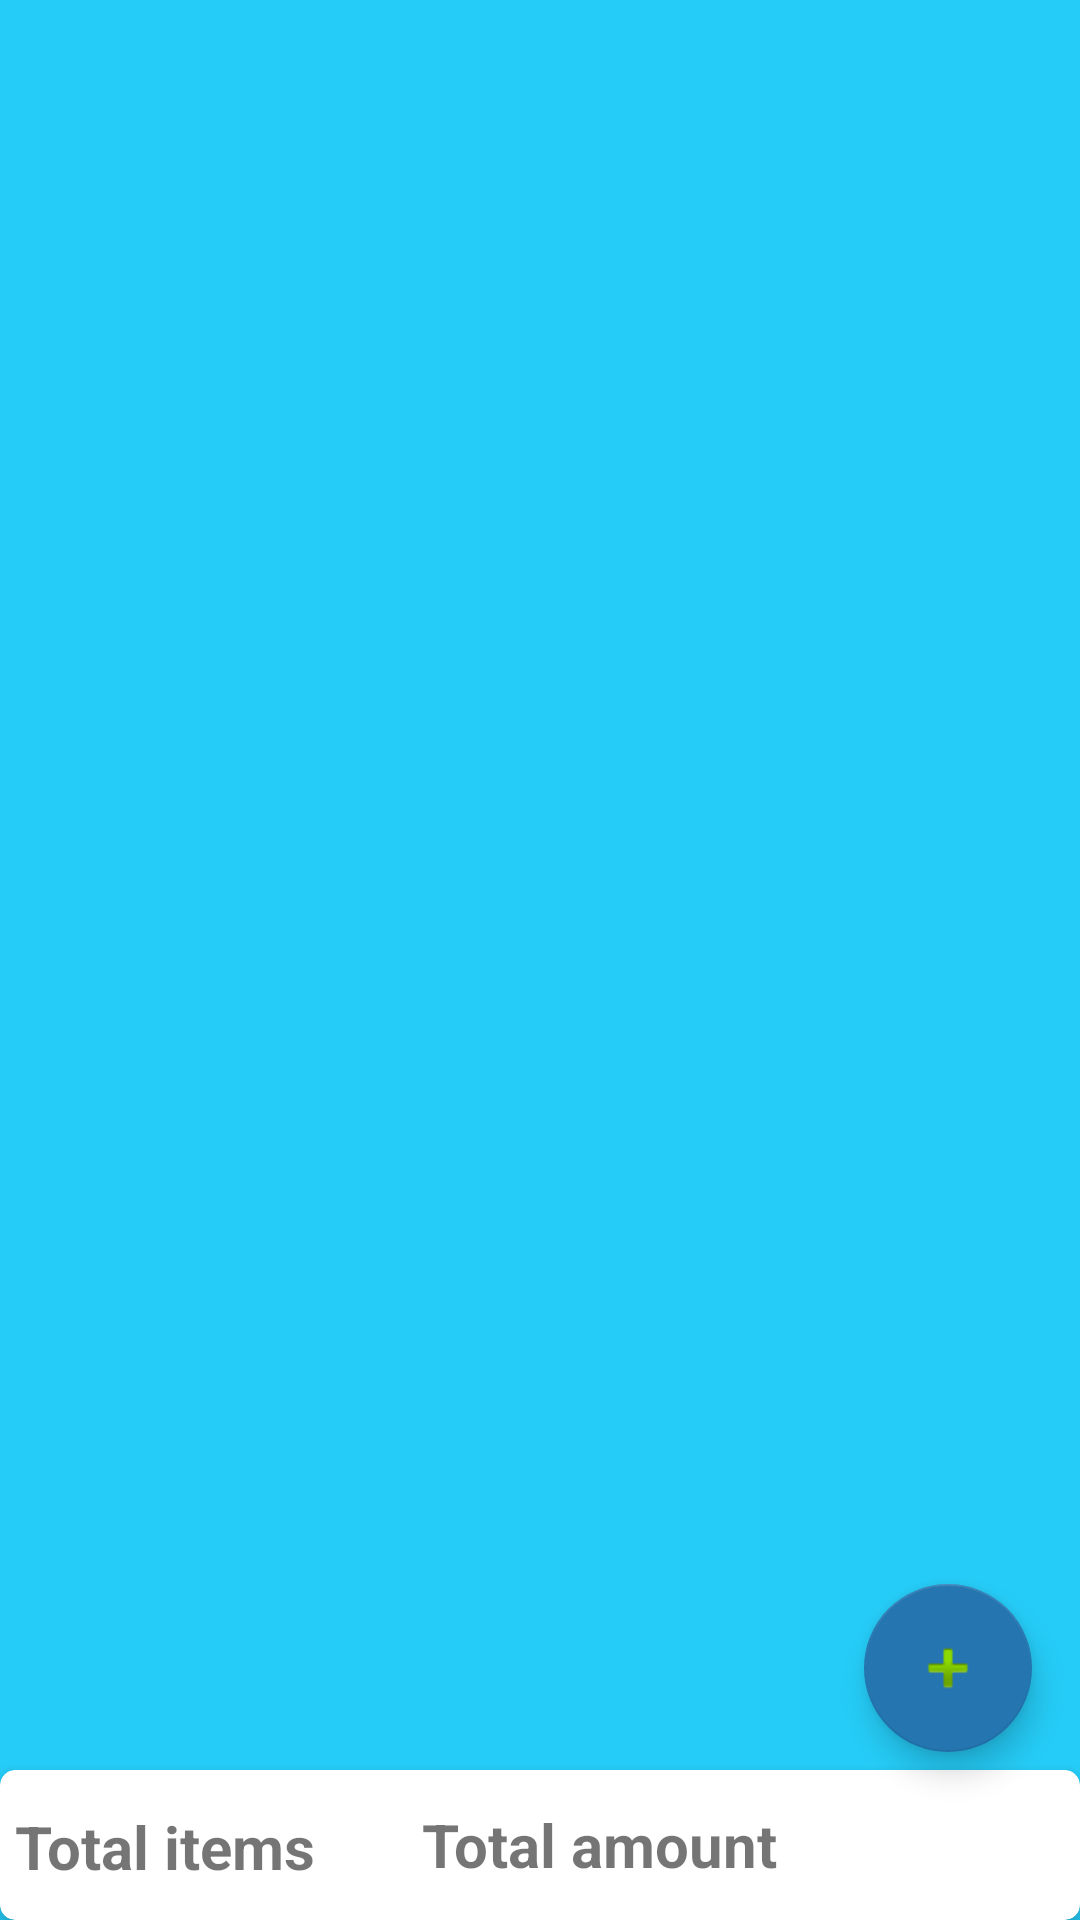

Screen size 1080*1920. Icon name, then its center in pixels as (x,y):
add: (948,1668)
